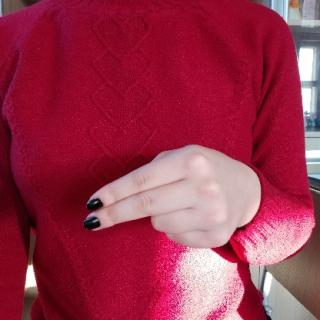AYN: (80, 140, 254, 256)
